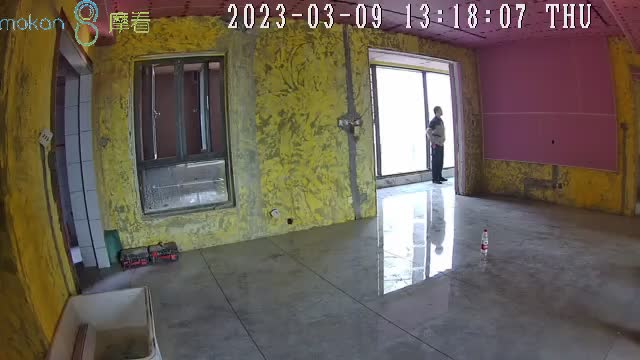people: (425, 106, 448, 186)
window: (370, 60, 453, 181)
